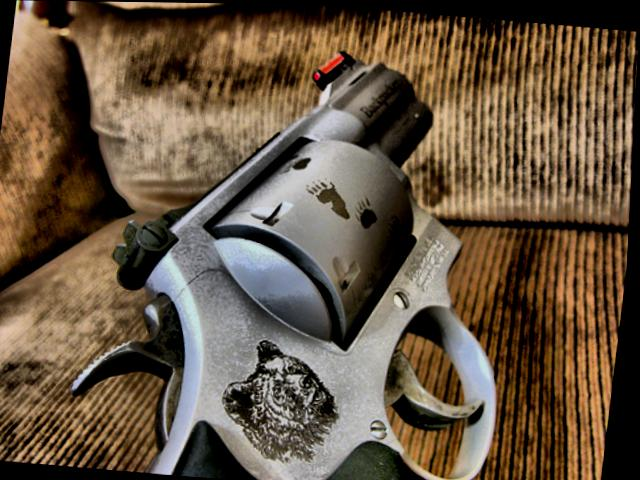pistol: (55, 31, 539, 480)
